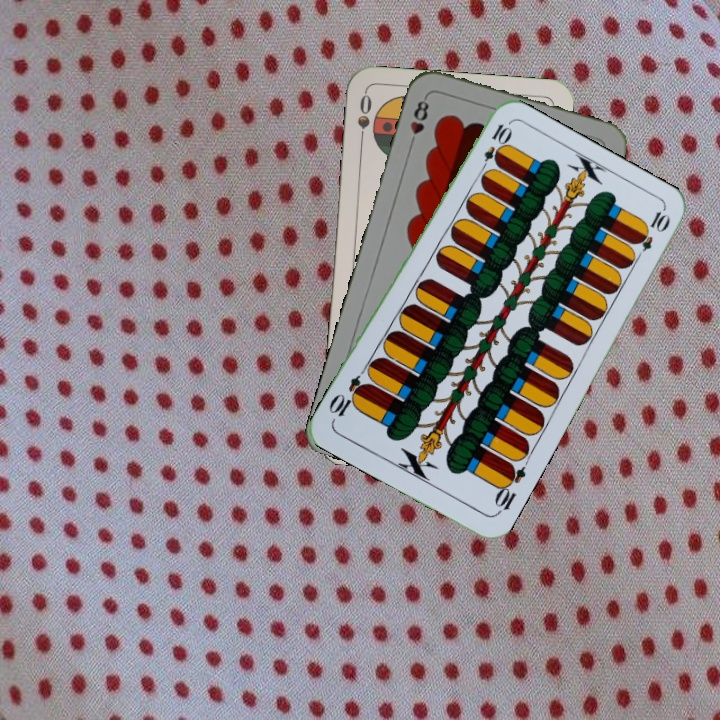E10: (490, 459, 529, 517), (476, 120, 513, 176)
H8: (405, 93, 432, 151)
SO: (353, 90, 375, 149)
